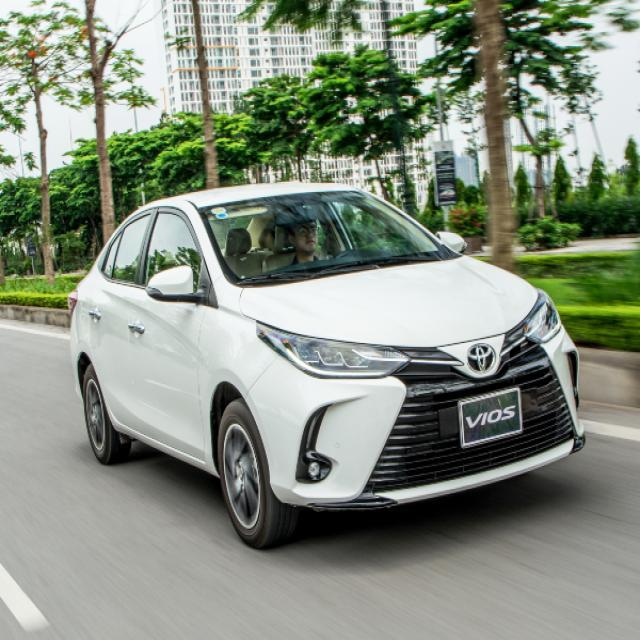ToyotaVios: (66, 180, 586, 549)
